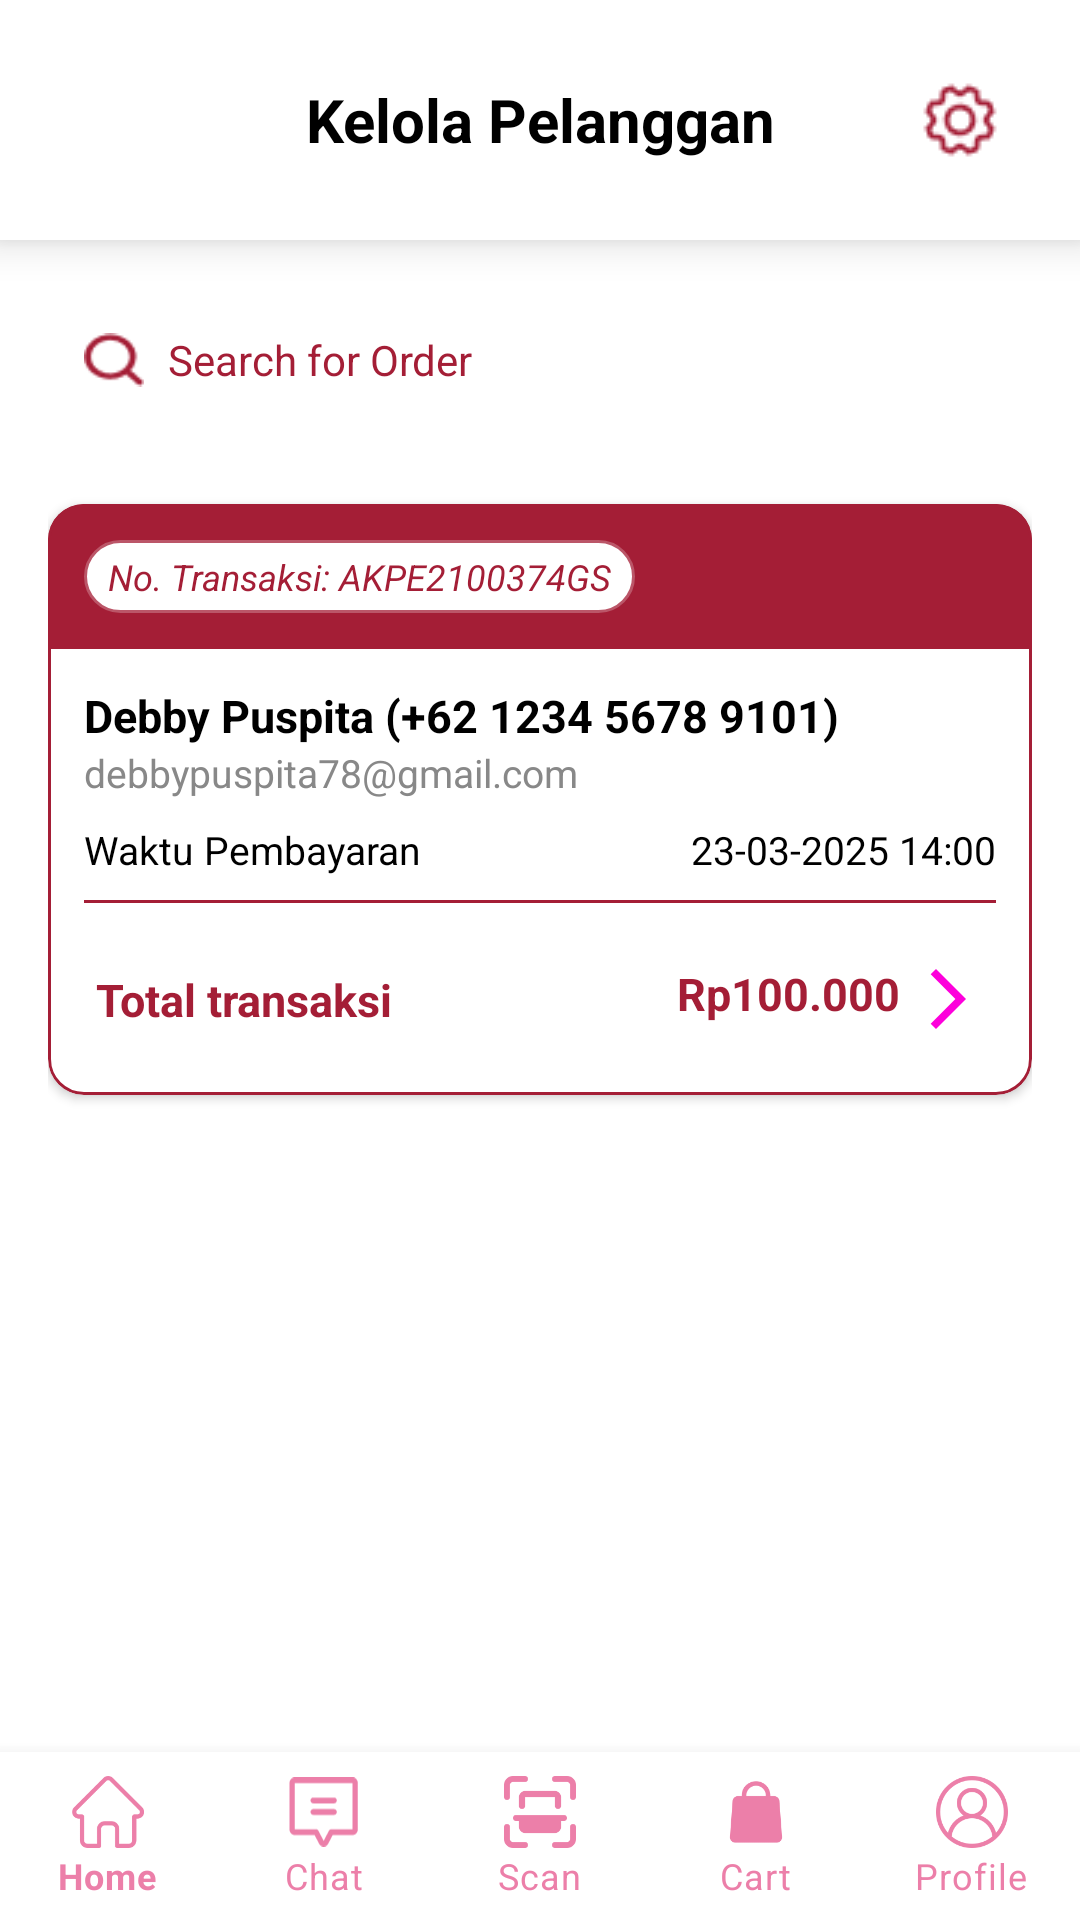

Named icons in this screenshot (1080*1920) and their bounding boxes, {"x1": x1, "y1": y1, "x2": x2, "y2": y2}:
Setting: {"x1": 923, "y1": 83, "x2": 997, "y2": 157}
